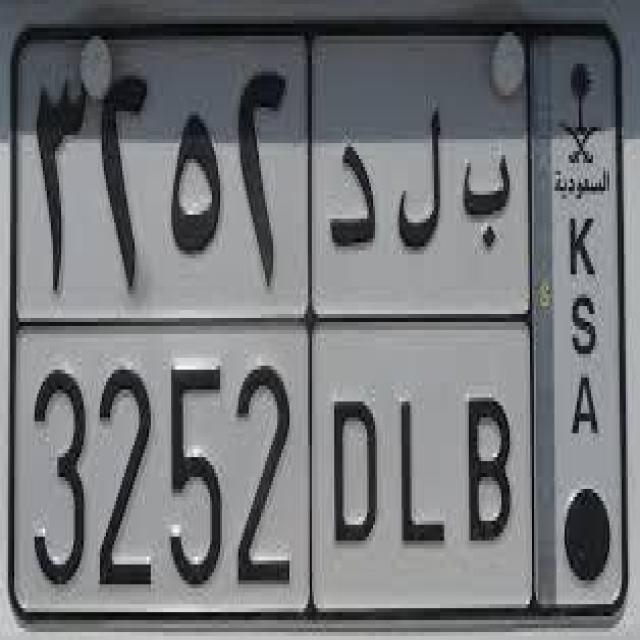license_plate: (0, 5, 640, 640)
